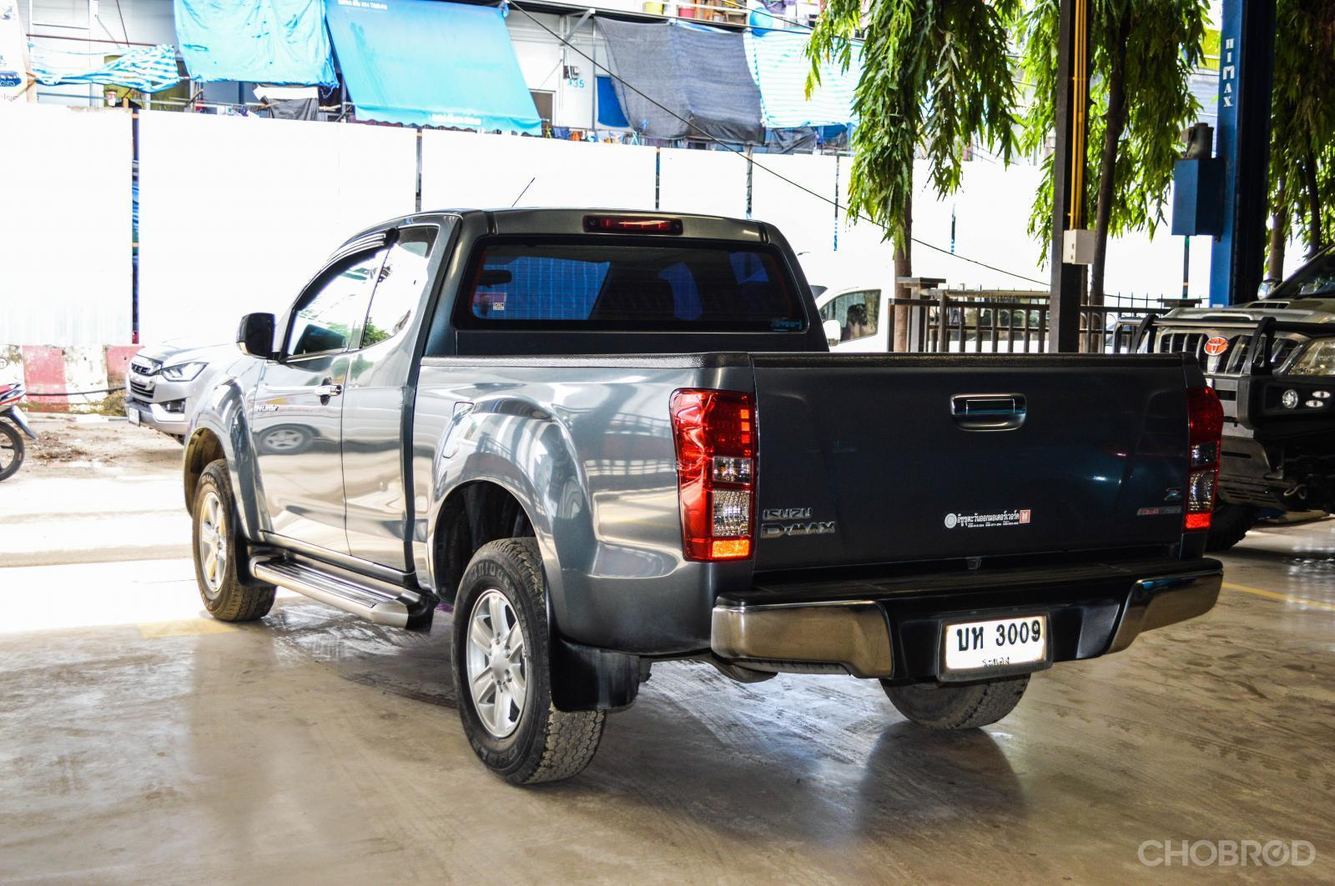license-plate: (937, 614, 1051, 676)
